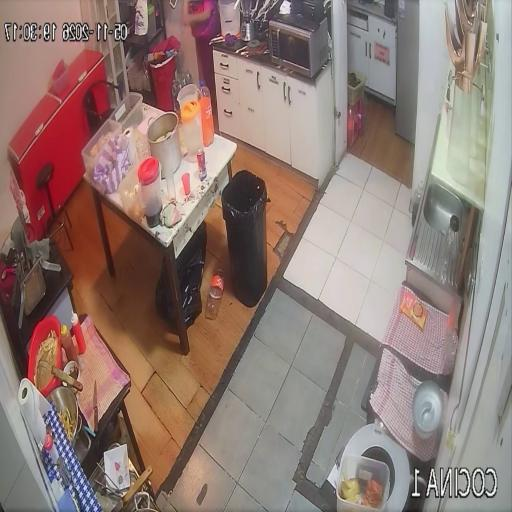Basurero: (222, 170, 267, 307)
Cuchillo1: (93, 380, 98, 433)
Envase Ketchup: (71, 313, 86, 354)
Envase Llajua: (61, 326, 78, 362)
Jarra1: (138, 157, 162, 227)
Jarra2: (181, 98, 203, 162)
Jarra3: (178, 84, 199, 111)
JarraLicuadora: (439, 215, 459, 273)
Microondas: (269, 15, 329, 77)
Persona2: (182, 0, 221, 114)
Tapa de olla: (412, 381, 444, 439)
Taper: (336, 454, 390, 512), (138, 157, 159, 184)
Taper2: (110, 92, 143, 130)
Taper3: (82, 119, 122, 177)
Vaso1: (182, 173, 190, 195)
olla1: (147, 112, 181, 181)
